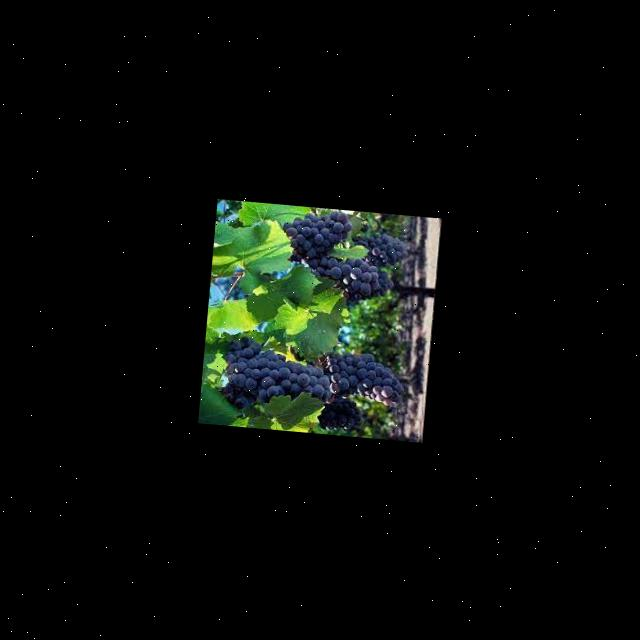grape: (217, 332, 407, 428), (275, 204, 411, 309)
